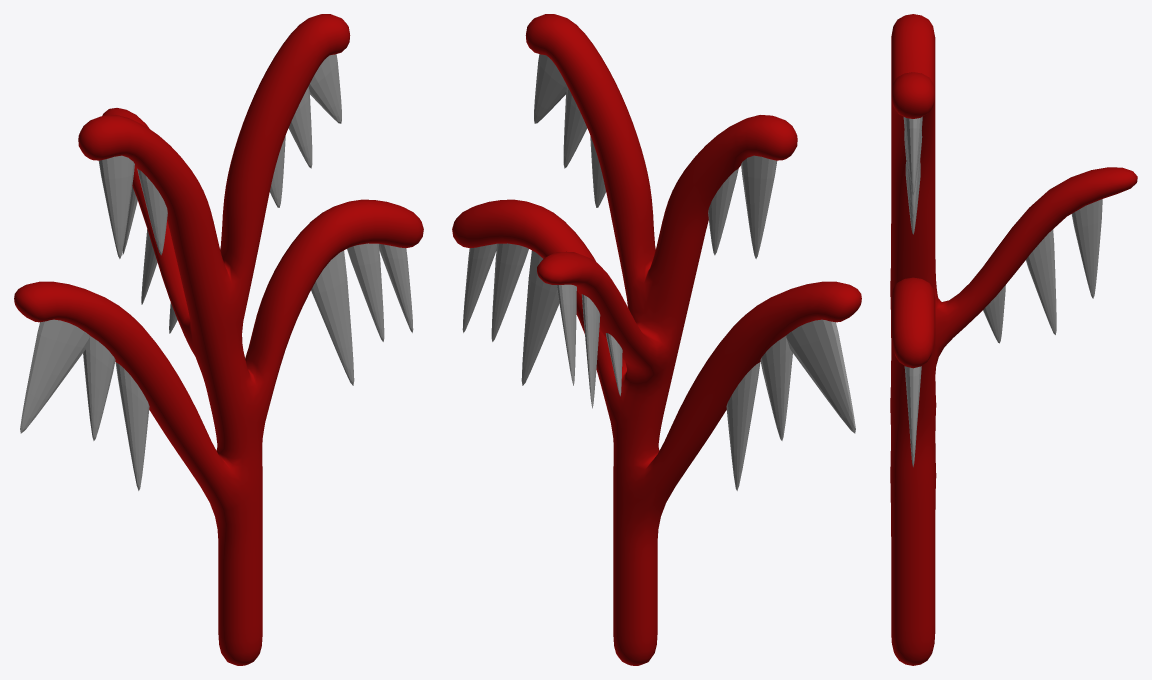
The model's file is mars-tree-11.obj.
The picture shows the model from 3 angles, left to right: view 1: azimuth 30°, elevation 25°; view 2: azimuth 150°, elevation 25°; view 3: azimuth 270°, elevation 25°; orthographic projection.
Visible parts, largest first — view 1: Tree.011_Cube.088; view 2: Tree.011_Cube.088; view 3: Tree.011_Cube.088.
Part boxes in pixels (x1=…): Tree.011_Cube.088: x1=14, y1=14, x2=423, y2=665; Tree.011_Cube.088: x1=452, y1=14, x2=861, y2=665; Tree.011_Cube.088: x1=890, y1=14, x2=1137, y2=665.
Size of the model in its own units: 1.99 by 2.95 by 1.05.
